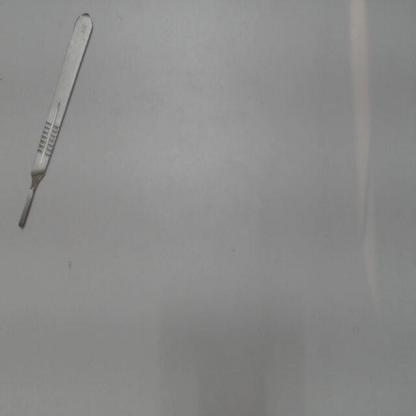No.4 BP Handle: (6, 7, 104, 242)
